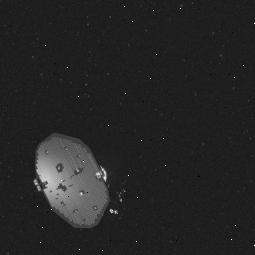lisa_pathfinder: (23, 126, 132, 238)
